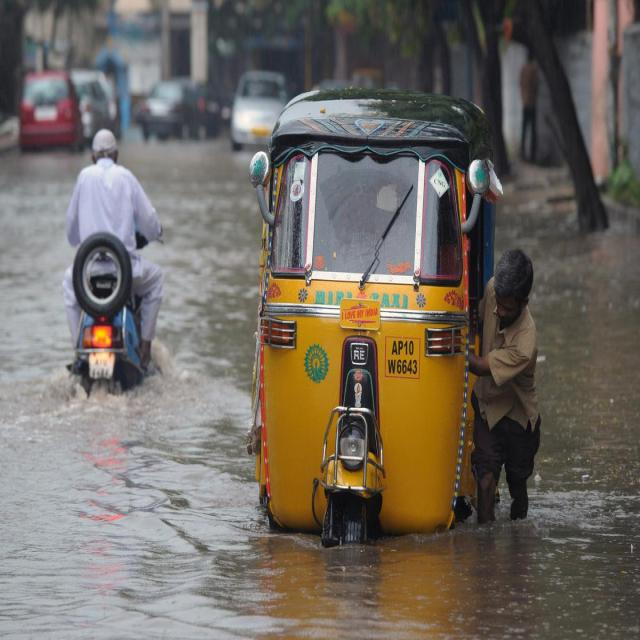auto ahead at: (249, 79, 478, 543)
